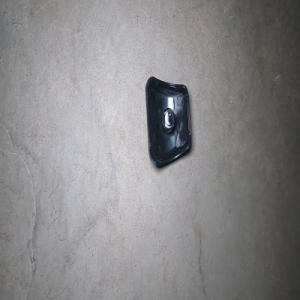LuggagePart: (144, 75, 192, 169)
